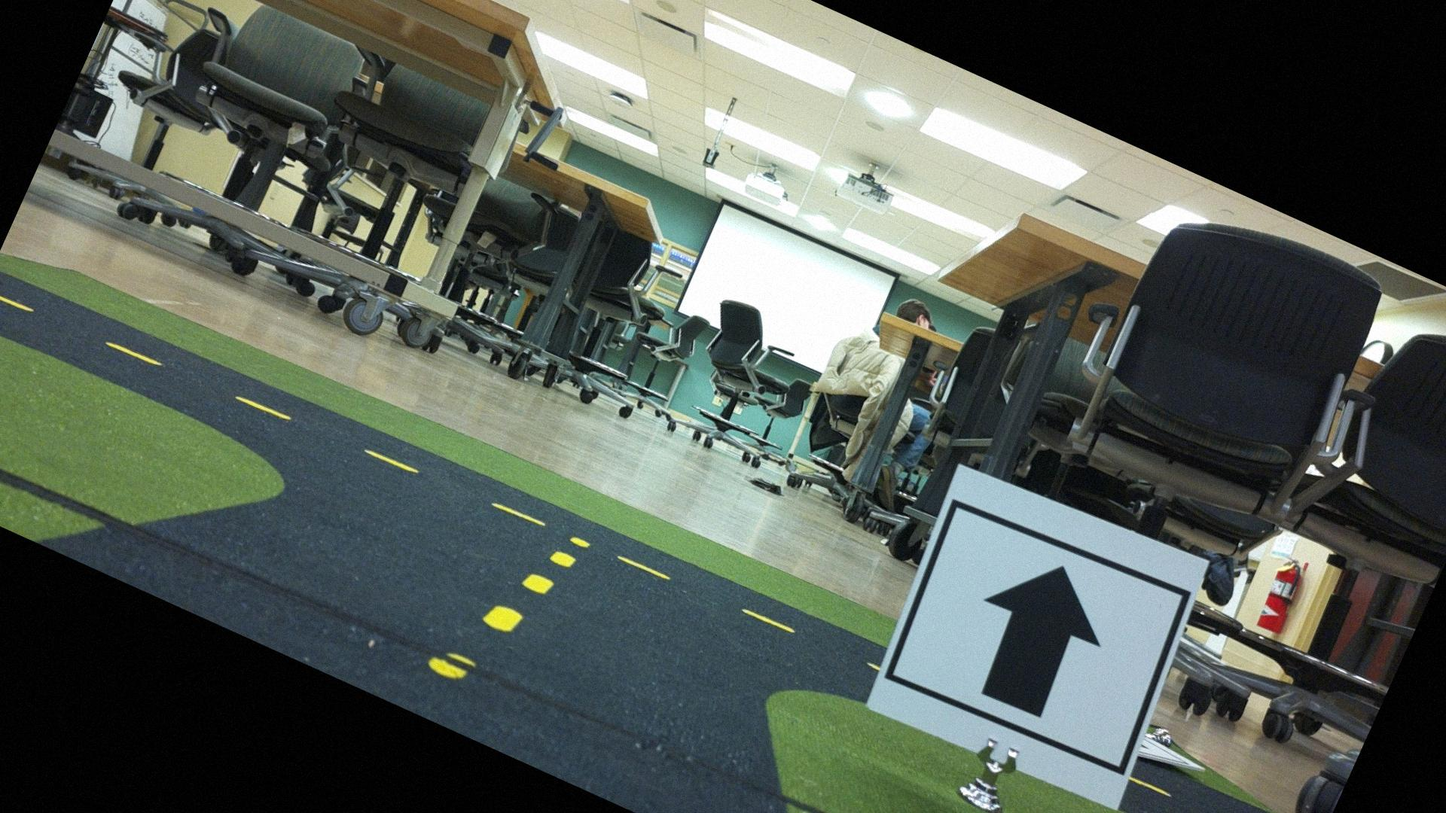gostraight: (872, 471, 1199, 791)
yellowline: (0, 271, 418, 485), (435, 505, 588, 708), (616, 549, 795, 641)
